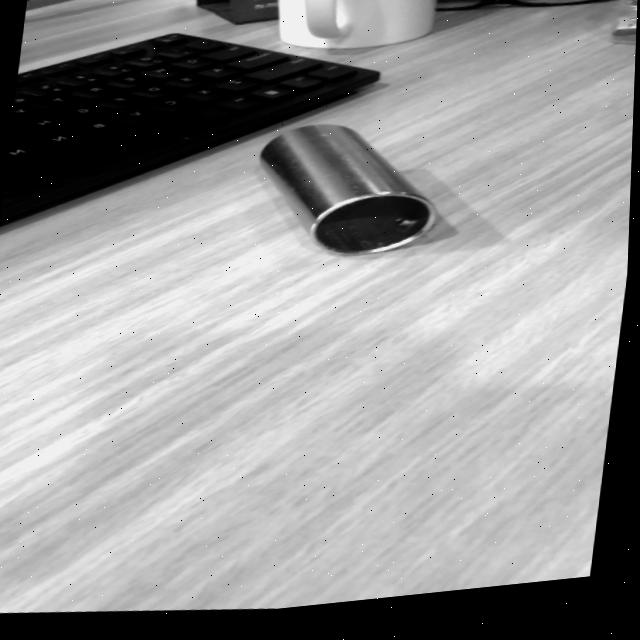Co_Lon: (241, 93, 444, 293)
